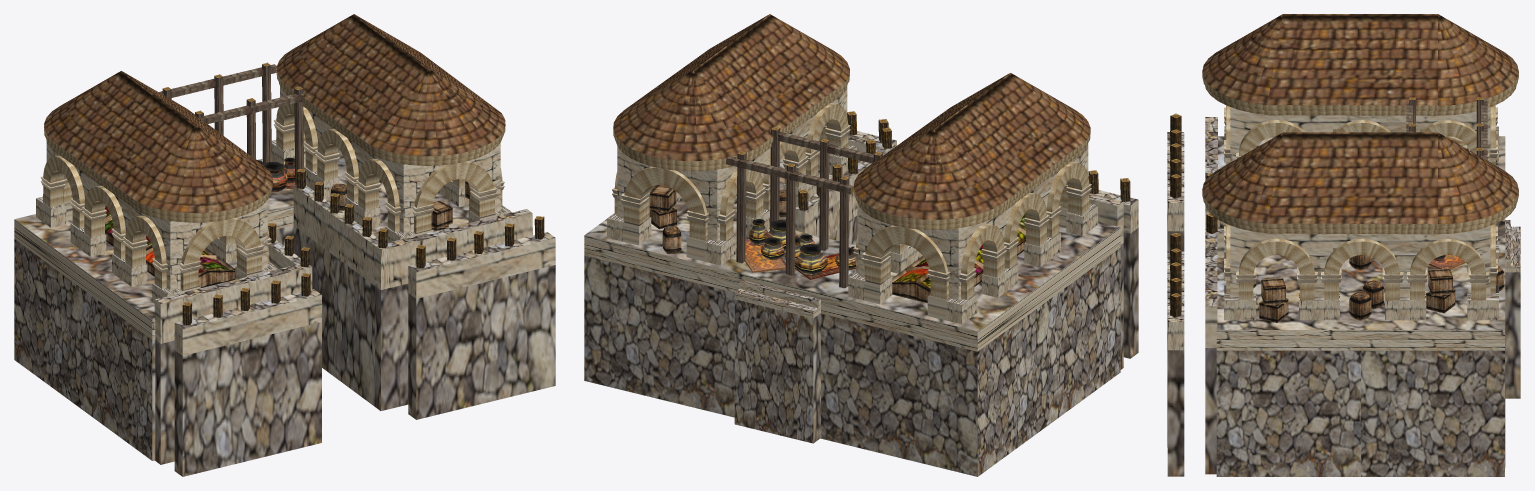
The model's file is dock.dae.
The picture shows the model from 3 angles, left to right: view 1: azimuth 30°, elevation 25°; view 2: azimuth 150°, elevation 25°; view 3: azimuth 270°, elevation 25°; orthographic projection. The views are drawn at different scales.
Parts seen in each view (by area): view 1: dock; view 2: dock; view 3: dock.
Boxes of the visible parts, bbox=[...] form: dock: bbox=[14, 14, 555, 476]; dock: bbox=[584, 14, 1138, 476]; dock: bbox=[1167, 14, 1520, 476].
Size of the model in its own units: 28.21 by 21.73 by 20.89.
